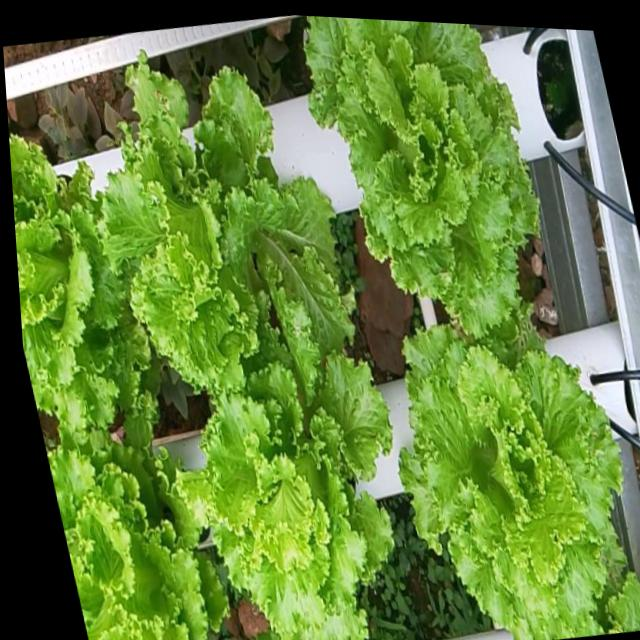Mature: (90, 61, 350, 401), (302, 16, 540, 349), (396, 335, 640, 640), (178, 343, 389, 640), (9, 133, 140, 429), (45, 429, 219, 640)
